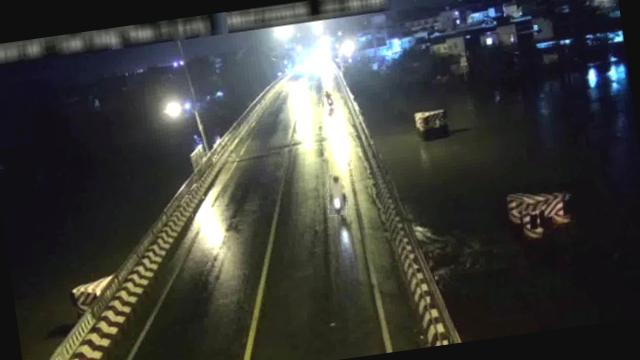Bike: (324, 172, 350, 216), (322, 88, 336, 108)
